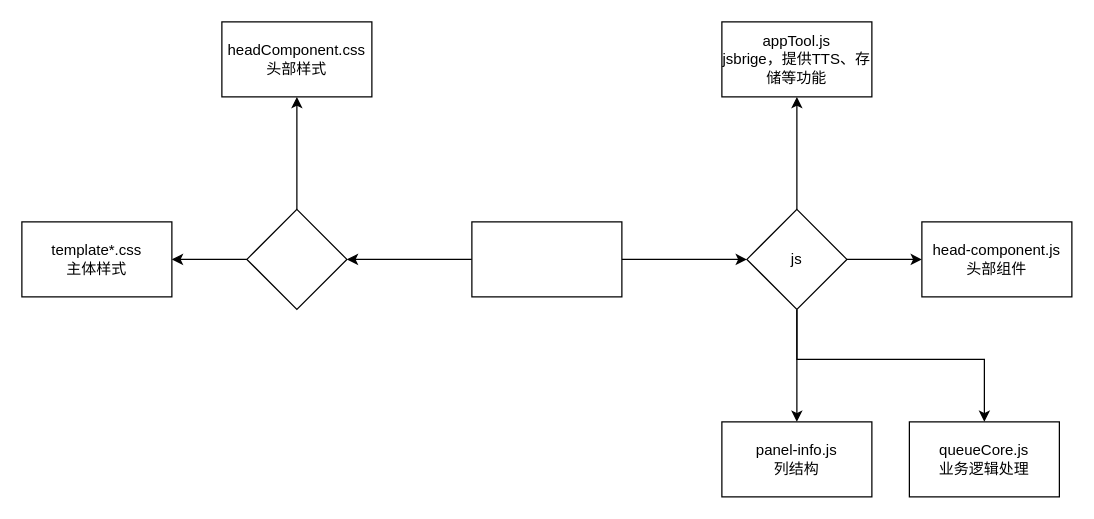
This 1094x519 diagram has some shape labels left out. Each missing label, with the centre of its shape:
css: (x=296, y=258)
ftl: (x=546, y=259)
